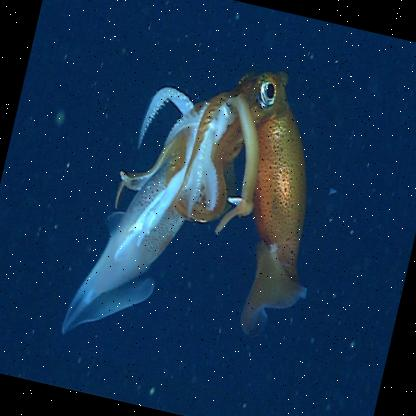colossal_squid: (49, 30, 356, 404)
